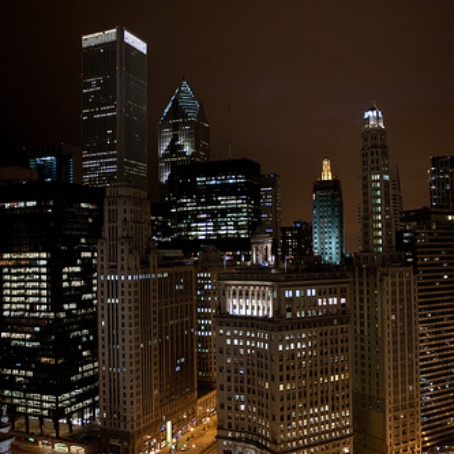building: (211, 263, 351, 452), (96, 193, 201, 430), (1, 179, 92, 440), (73, 22, 160, 188), (355, 258, 421, 454), (413, 154, 454, 454), (167, 159, 285, 263), (353, 95, 403, 255), (157, 72, 211, 180), (308, 156, 349, 264)
sky: (1, 1, 451, 152)
